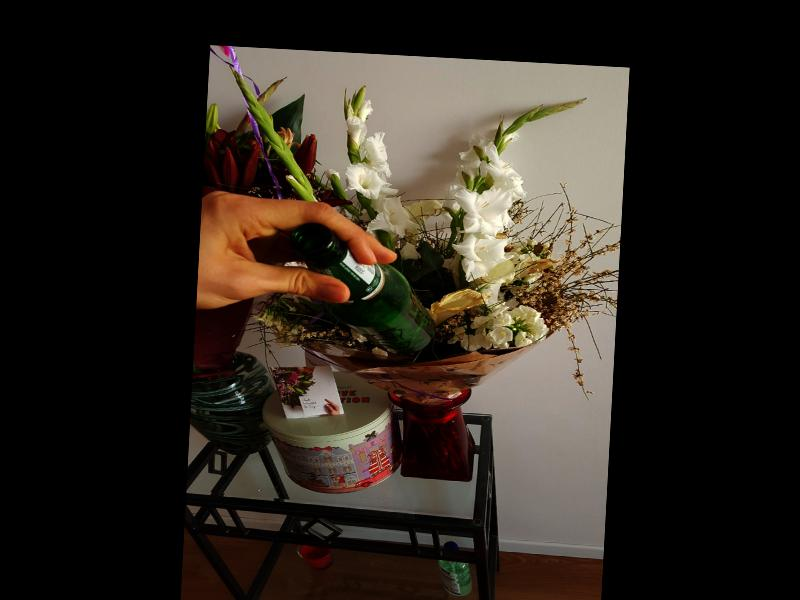Beer: (286, 222, 439, 354)
